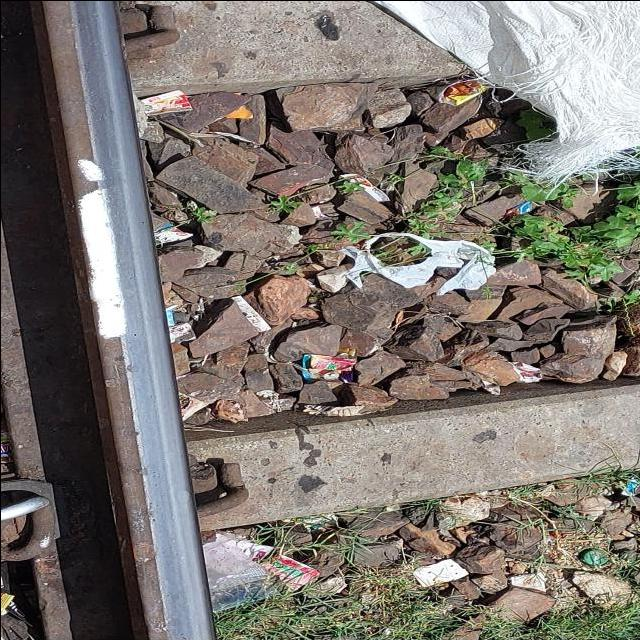squats_high: (128, 333, 139, 339)
